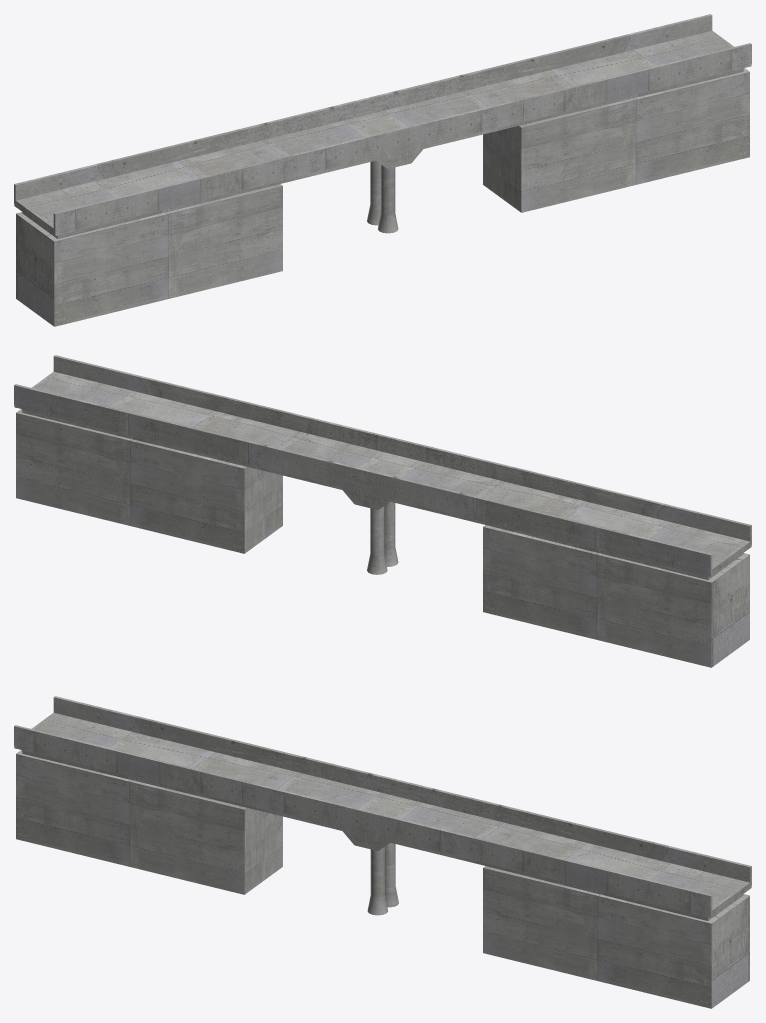
File: köprü.fbx
The picture shows the model from 3 angles, top to bottom: view 1: azimuth 30°, elevation 25°; view 2: azimuth 150°, elevation 25°; view 3: azimuth 330°, elevation 25°; orthographic projection.
Visible parts, largest first — view 1: Cylinder; view 2: Cylinder; view 3: Cylinder.
Boxes of the visible parts, bbox=[...] form: Cylinder: bbox=[14, 14, 751, 326]; Cylinder: bbox=[14, 355, 751, 667]; Cylinder: bbox=[14, 696, 751, 1008].
Bounding box in the file's own units: 11037 × 1722 × 1132.
Materials: 1 (1 with a texture image).
